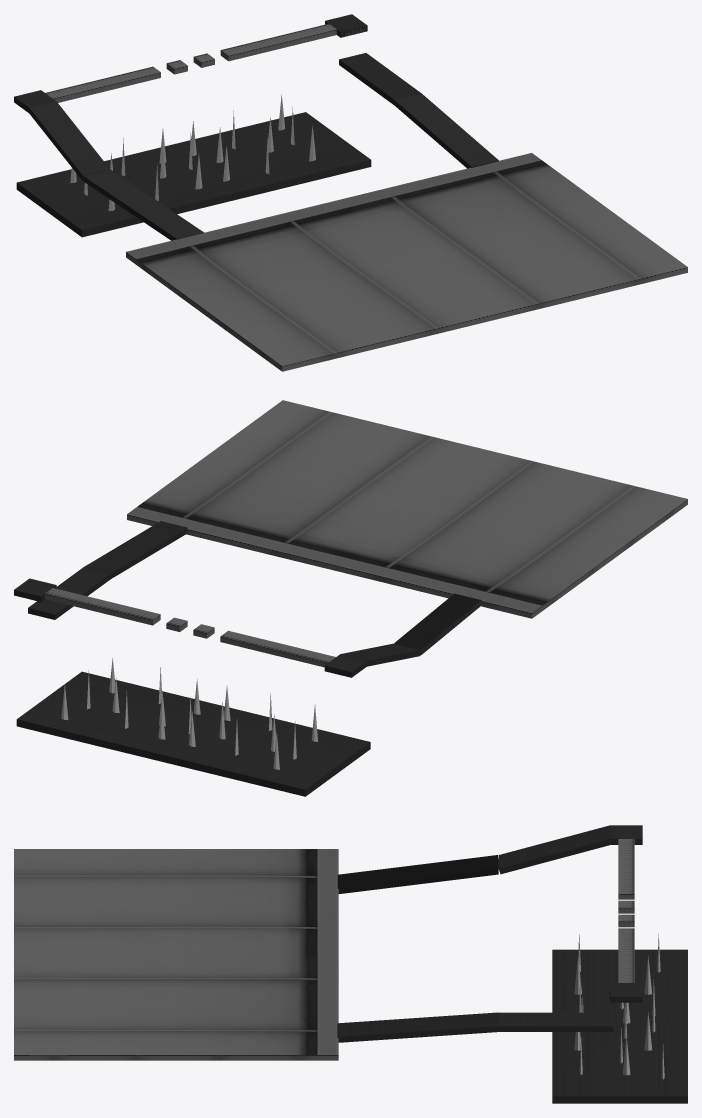
3 views of the same model, one above another, from view 1: azimuth 30°, elevation 25°; view 2: azimuth 150°, elevation 25°; view 3: azimuth 270°, elevation 25° (orthographic). The views are drawn at different scales.
Visible parts, largest first — view 1: Box53, Box, Box32, Box31, Box30, Box29, Box28; view 2: Box53, Box, Box31, Box32, Box29, Box30, Box27, Box28; view 3: Box53, Box, Box31, Box32, Box29, Box30, Box28, Box27.
Boxes of the visible parts, x1,y1,x2,y2 form: Box53: [126, 153, 687, 371]; Box: [16, 112, 371, 237]; Box32: [83, 169, 204, 240]; Box31: [394, 93, 498, 168]; Box30: [29, 101, 109, 180]; Box29: [339, 53, 421, 105]; Box28: [325, 14, 367, 37]; Box53: [127, 400, 687, 618]; Box: [16, 671, 370, 796]; Box31: [84, 521, 187, 578]; Box32: [394, 593, 481, 655]; Box29: [28, 567, 110, 619]; Box30: [340, 643, 420, 666]; Box27: [324, 654, 367, 677]; Box28: [14, 578, 56, 601]; Box53: [14, 849, 338, 1060]; Box: [552, 949, 687, 1103]; Box31: [337, 1012, 498, 1042]; Box32: [337, 855, 498, 893]; Box29: [497, 1012, 613, 1031]; Box30: [498, 825, 611, 874]; Box28: [610, 983, 642, 1002]; Box27: [610, 825, 642, 844].
Bounding box in the file's own units: 15 × 4.06 × 20.77.
Materials: 48 (48 with a texture image).
